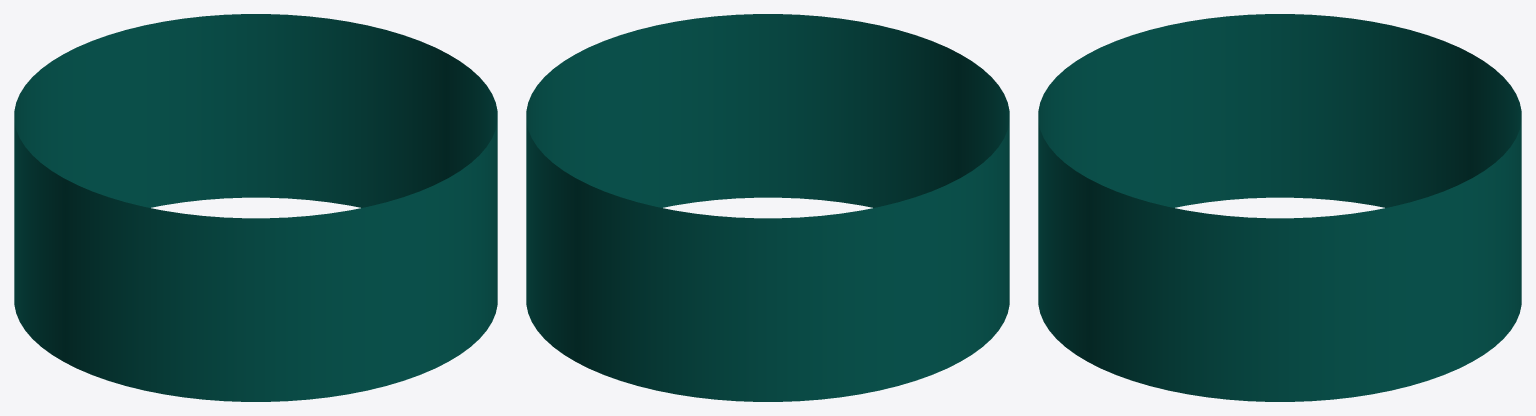
Rendered from stage_3F_inside_water.fbx.
The picture shows the model from 3 angles, left to right: view 1: azimuth 30°, elevation 25°; view 2: azimuth 150°, elevation 25°; view 3: azimuth 270°, elevation 25°; orthographic projection.
Parts seen in each view (by area): view 1: pCylinder19; view 2: pCylinder19; view 3: pCylinder19.
Boxes of the visible parts, bbox=[...] form: pCylinder19: bbox=[14, 14, 497, 401]; pCylinder19: bbox=[526, 14, 1009, 401]; pCylinder19: bbox=[1038, 14, 1521, 401].
Bounding box in the file's own units: 8146 × 3416 × 8146.
